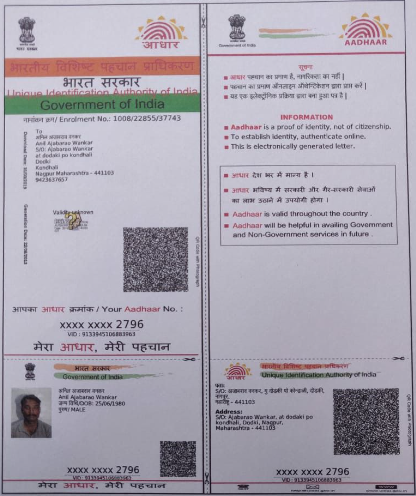aadhaar: (207, 2, 414, 492), (1, 4, 206, 493)
